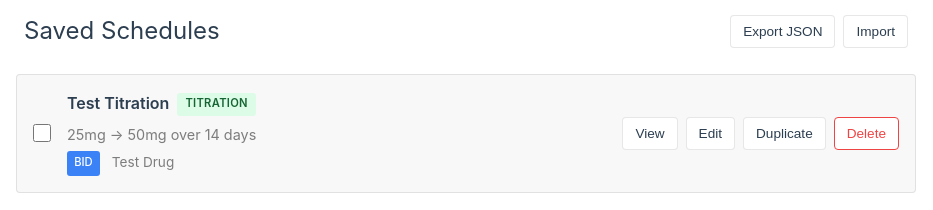
Test: ScheduleList › actions › deletes schedule when delete button clicked and confirmed
This screenshot has width=933, height=210.
Click the button "Delete" at coordinates (866, 134), box [834,117,899,150]
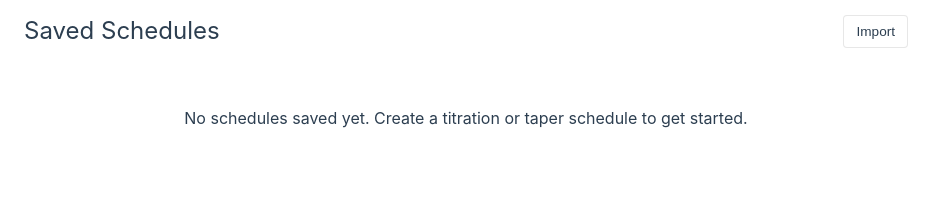
Expected: the element with test id "empty-message" is shown, [184,108,748,128]
